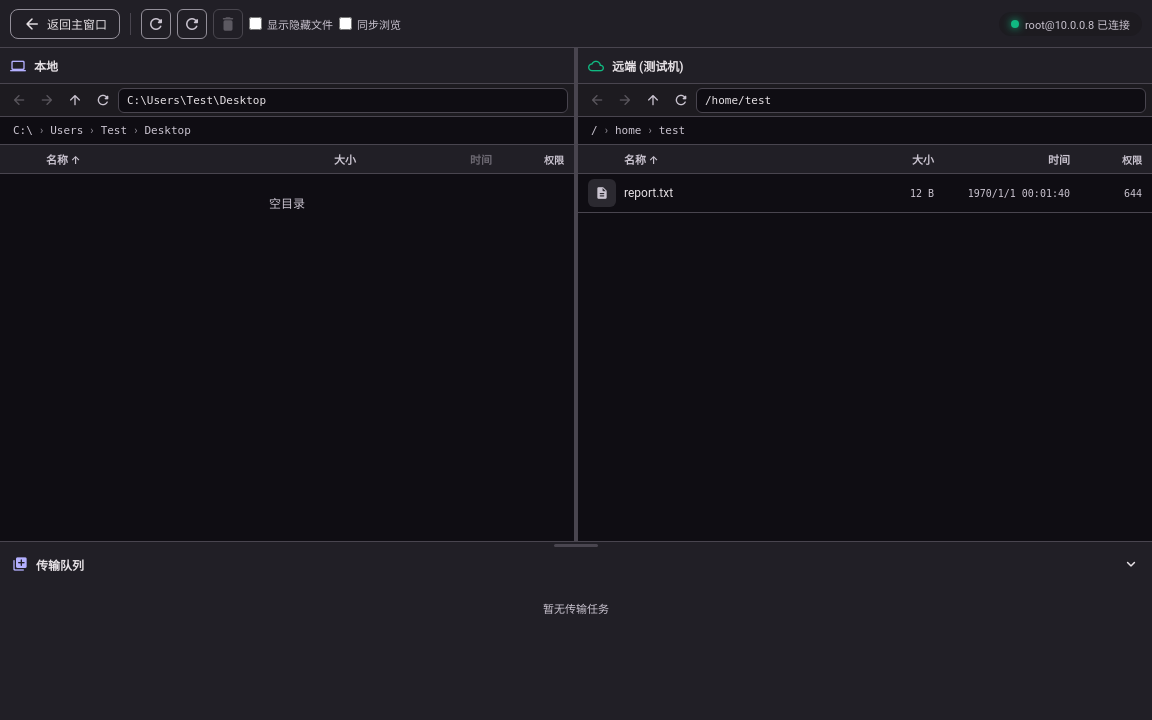
Test: SFTP 远端文本编辑（外部编辑器） › 编辑打开失败时显示完整错误，且不调用任何保存类命令
Right-click the text "report.txt".
right_click(649, 193)  # box [624,186,673,200]
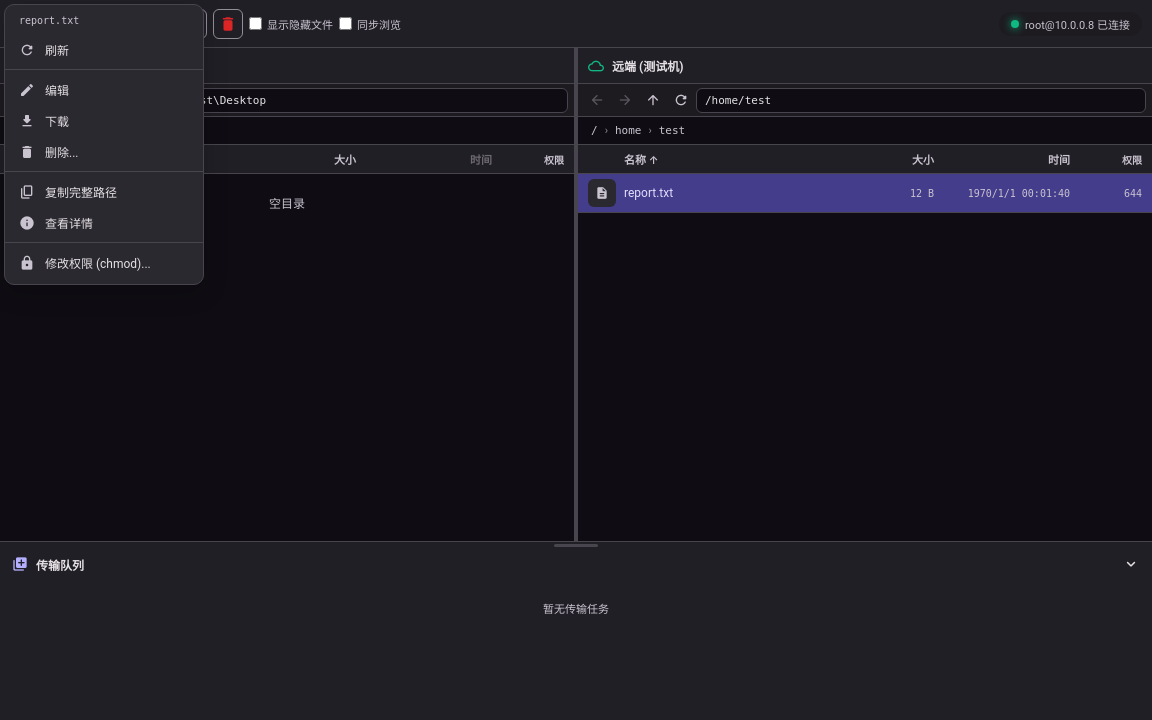
Click the menu item "编辑".
click(44, 90)  # box [19,82,69,98]
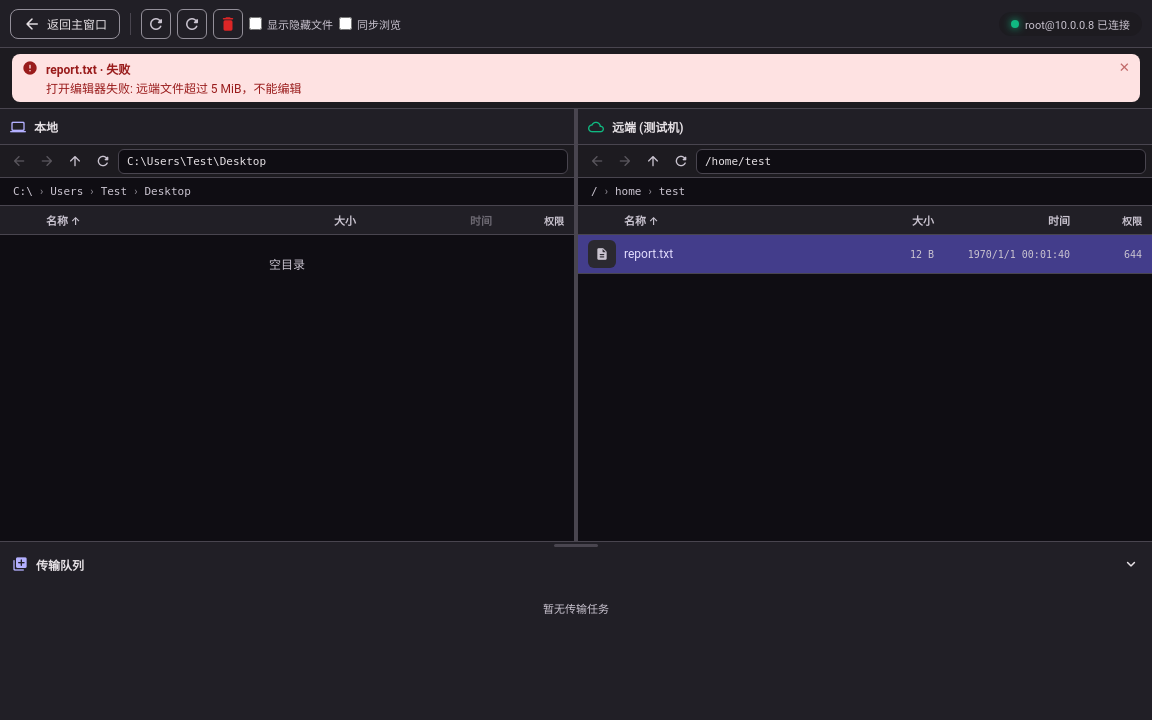
Expected: the message with test id "edit-notice-error" shows "远端文件超过 5 MiB，不能编辑", [46,82,302,96]
